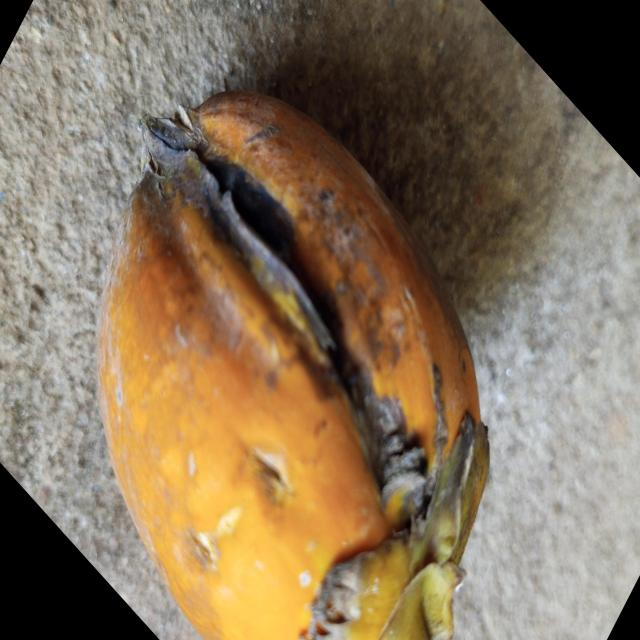damaged: (94, 92, 492, 640)
